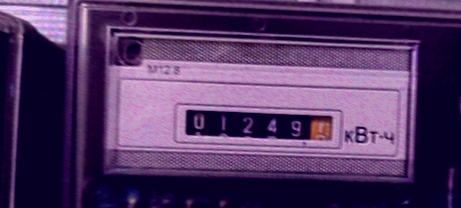0: (191, 111, 206, 132)
1: (216, 113, 227, 133)
2: (240, 115, 254, 136)
4: (265, 116, 277, 136)
7: (313, 116, 327, 136)
9: (287, 118, 302, 140)
screen: (164, 96, 342, 156)
